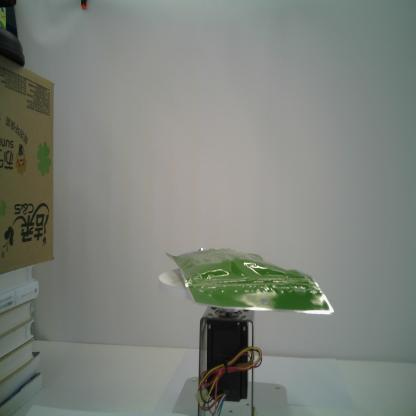Dried Fruit: (162, 245, 336, 318)
